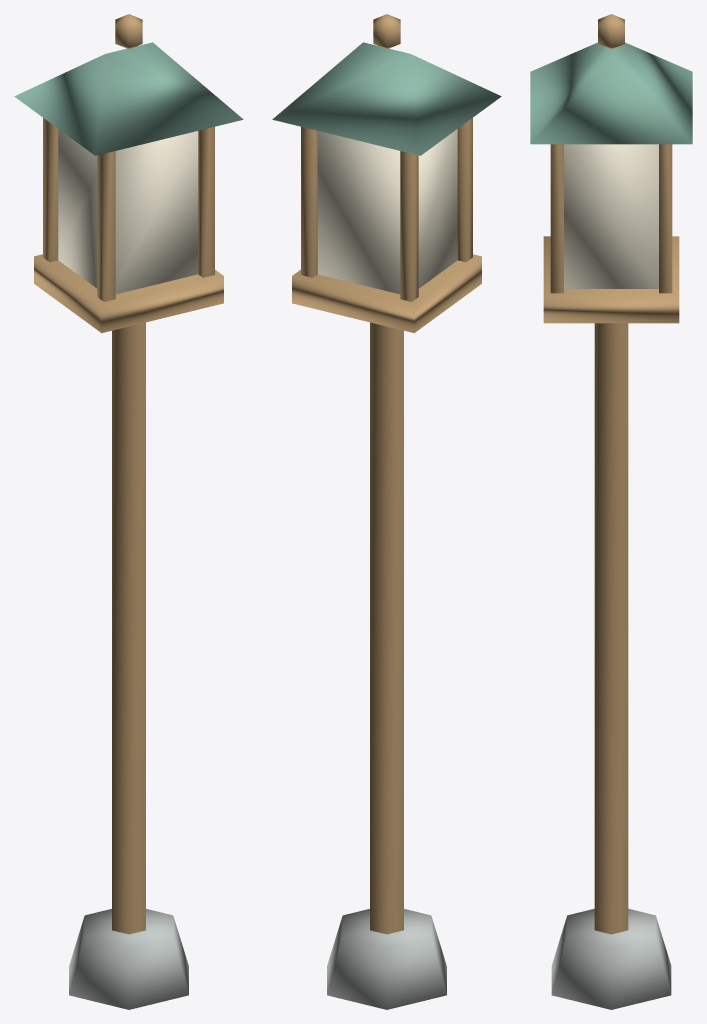
File: lamp_low.glb
3 views of the same model, side by side, from view 1: azimuth 30°, elevation 25°; view 2: azimuth 150°, elevation 25°; view 3: azimuth 270°, elevation 25° (orthographic).
Bounding box in the file's own units: 0.57 × 3.55 × 0.5401.
